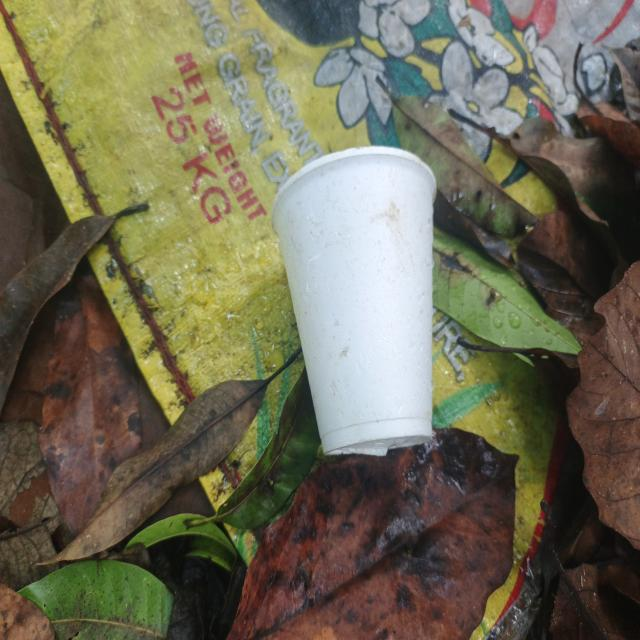plastic: (260, 136, 459, 471)
